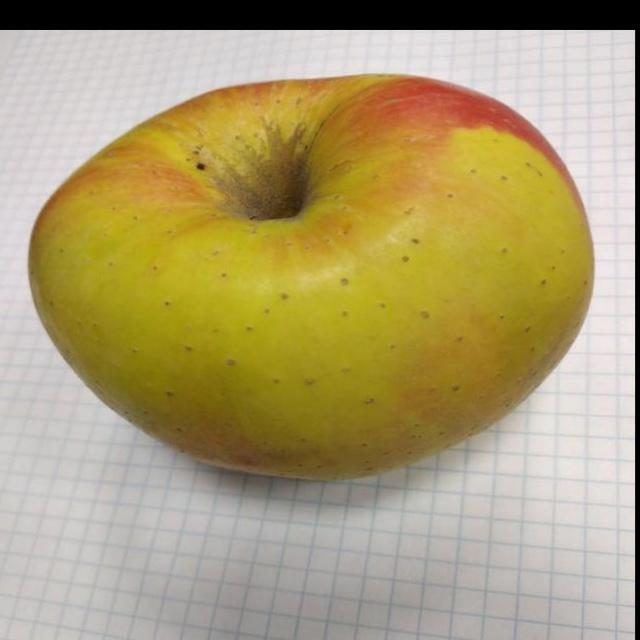green apple: (42, 71, 603, 498)
